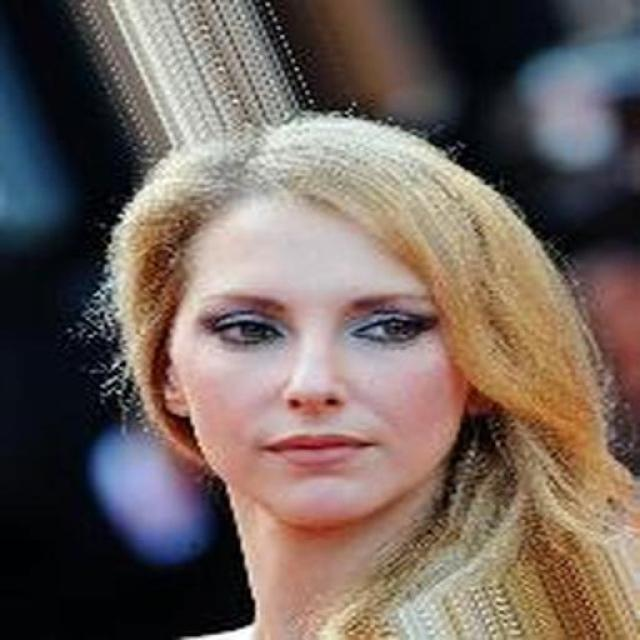bareface: (158, 128, 503, 514)
